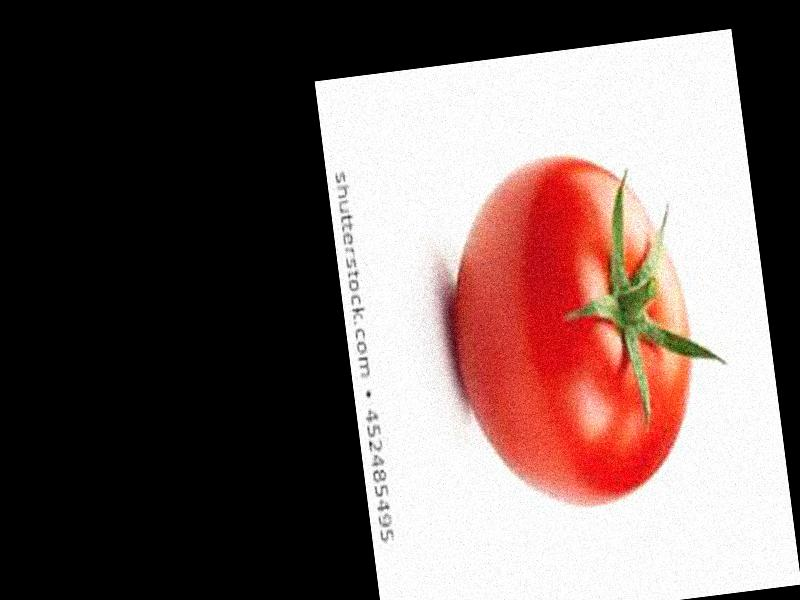Tomato: (433, 147, 708, 516)
